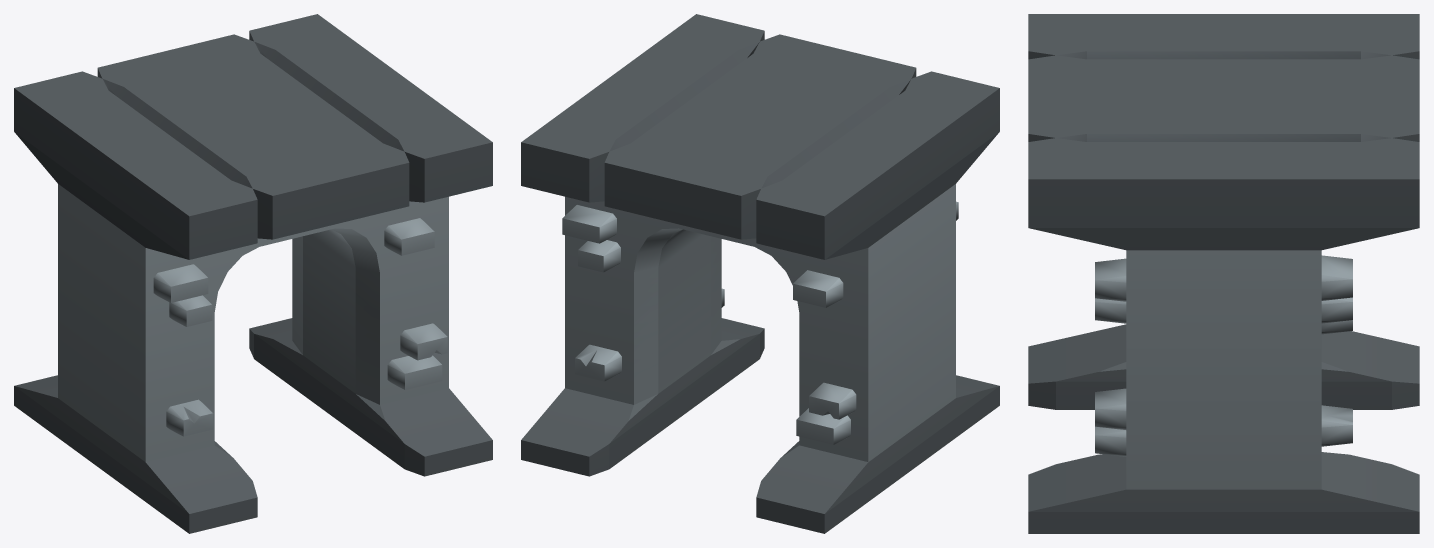
Rendered from arch.glb.
The picture shows the model from 3 angles, left to right: view 1: azimuth 30°, elevation 25°; view 2: azimuth 150°, elevation 25°; view 3: azimuth 270°, elevation 25°; orthographic projection. The views are drawn at different scales.
Visible parts, largest first — view 1: wall_doorway; view 2: wall_doorway; view 3: wall_doorway.
Part boxes in pixels (x1,y1,x2,y2): wall_doorway: (14, 14, 492, 533); wall_doorway: (521, 14, 999, 533); wall_doorway: (1028, 14, 1419, 533).
Bounding box in the file's own units: 1 × 1 × 1.
Materials: 1 (1 with a texture image).
